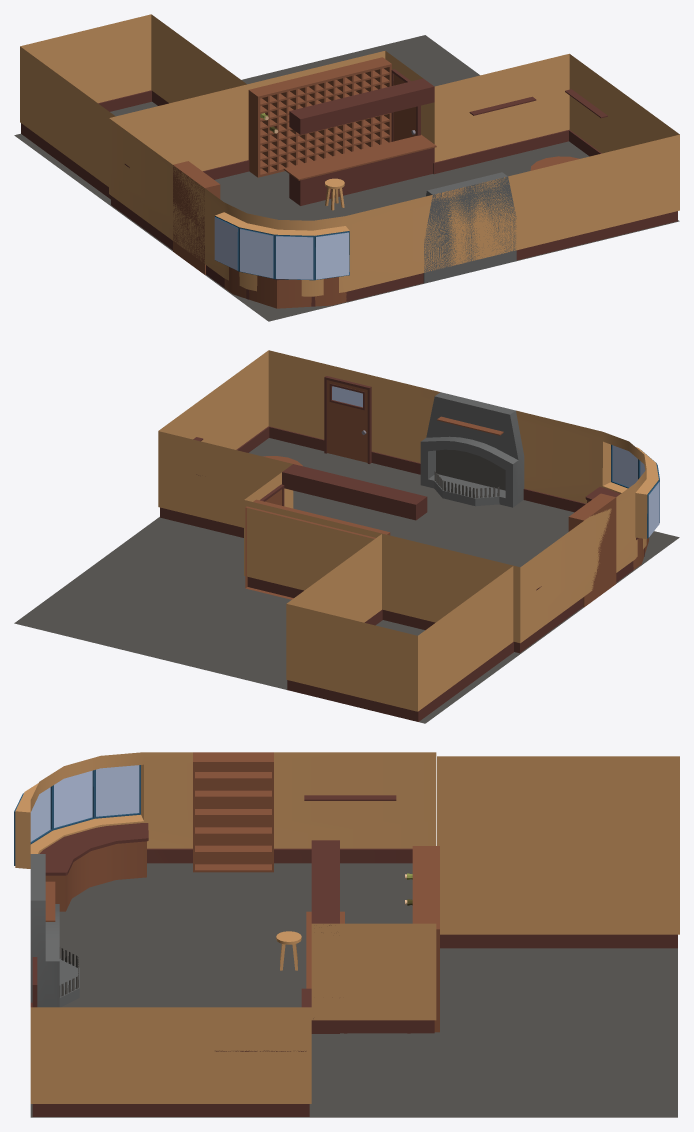
Rendered from Bar.fbx.
3 views of the same model, one above another, from view 1: azimuth 30°, elevation 25°; view 2: azimuth 150°, elevation 25°; view 3: azimuth 270°, elevation 25° (orthographic). The views are drawn at different scales.
Parts seen in each view (by area): view 1: Wall, BarCorner, Floor, FalseWall, FirePlace, ThickWall, CornorShelf, BackDoor, Shelfs, Stool; view 2: Wall, Floor, FirePlace, FalseWall, BarCorner, FrontDoor, ThickWall; view 3: Wall, Floor, ThickWall, BarCorner, CornorShelf, FirePlace, Shelfs.
Boxes of the visible parts, x1,y1,x2,y2 form: Wall: (20, 14, 679, 306); BarCorner: (248, 57, 436, 205); Floor: (14, 35, 679, 321); FalseWall: (116, 84, 247, 179); FirePlace: (423, 172, 516, 283); ThickWall: (173, 161, 220, 274); CornorShelf: (224, 267, 346, 308); BackDoor: (391, 69, 420, 141); Shelfs: (124, 89, 607, 167); Stool: (325, 178, 344, 210); Wall: (158, 350, 659, 721); Floor: (14, 438, 679, 723); FirePlace: (420, 392, 524, 507); FalseWall: (382, 533, 514, 651); BarCorner: (245, 464, 427, 599); FrontDoor: (324, 376, 371, 463); ThickWall: (568, 493, 616, 607); Wall: (14, 752, 679, 1116); Floor: (30, 863, 677, 1117); ThickWall: (193, 752, 273, 872); BarCorner: (306, 840, 439, 1033); CornorShelf: (39, 823, 148, 911); FirePlace: (30, 854, 79, 1007); Shelfs: (215, 795, 396, 1051).
Bounding box in the file's own units: 1528 × 300 × 1640.
